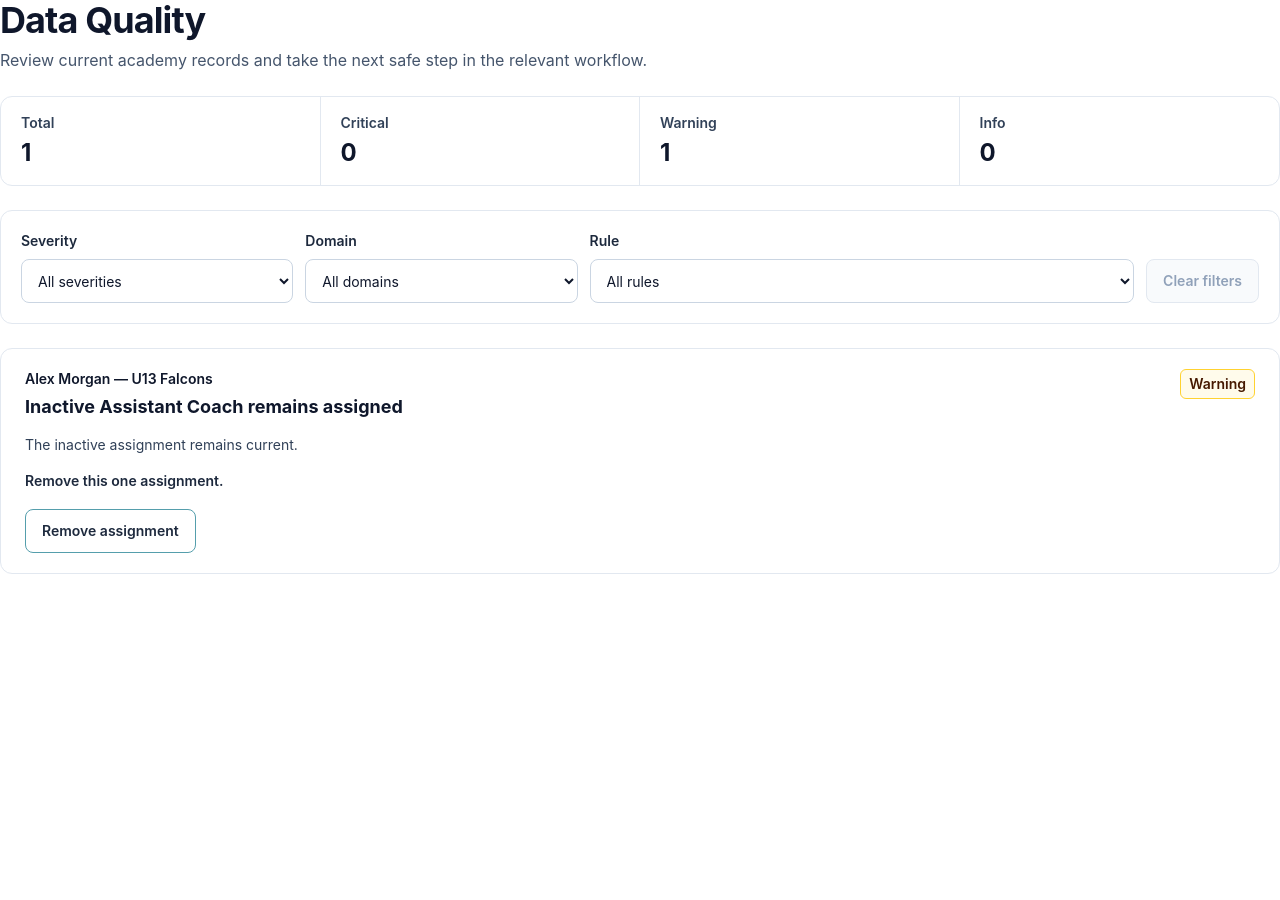
Test: Data Quality remediation › retains the finding and hides server details after a safe failure
Click the button "Remove assignment": (110, 531) [25,509,196,553]
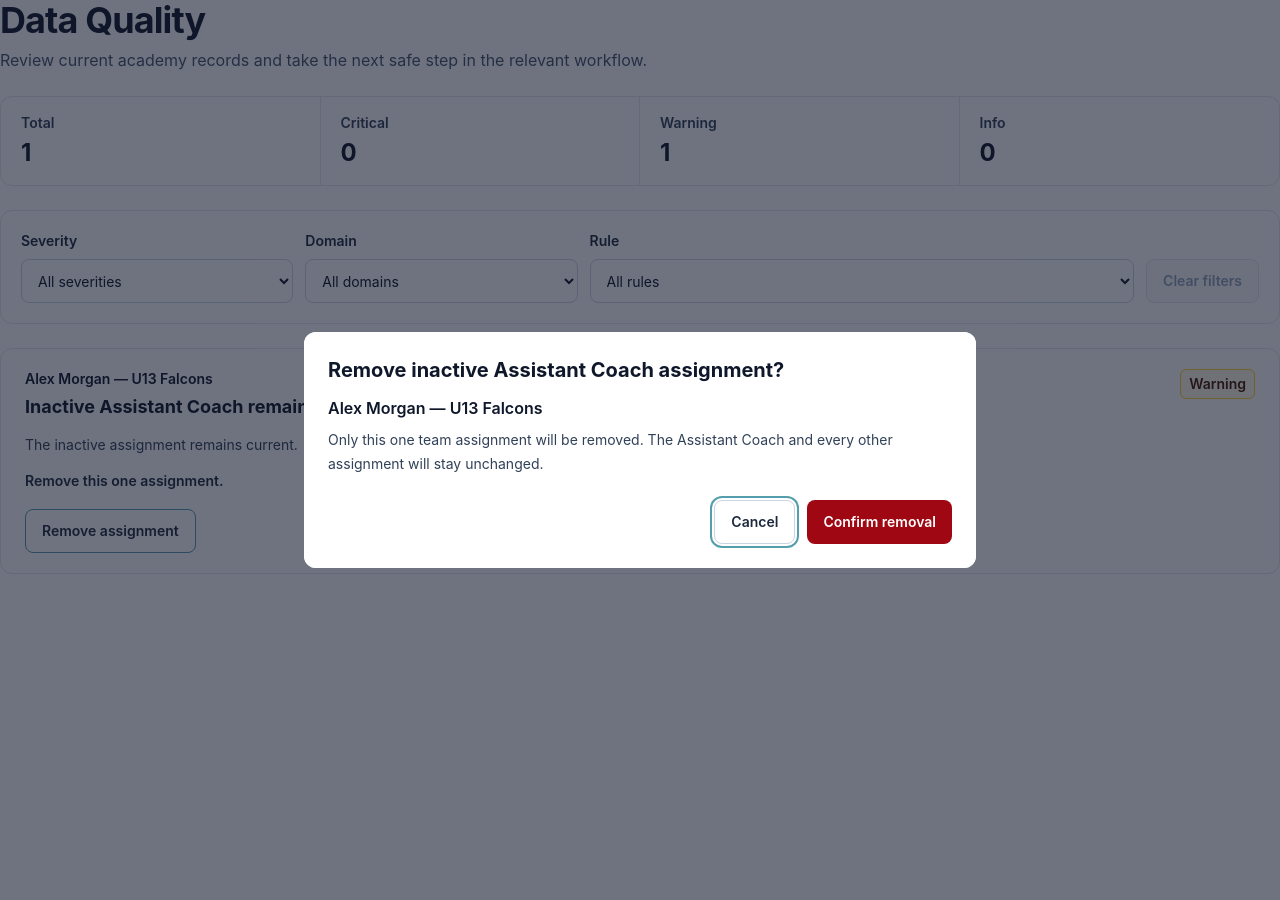
Click the button "Confirm removal": (880, 522) [807,500,952,544]
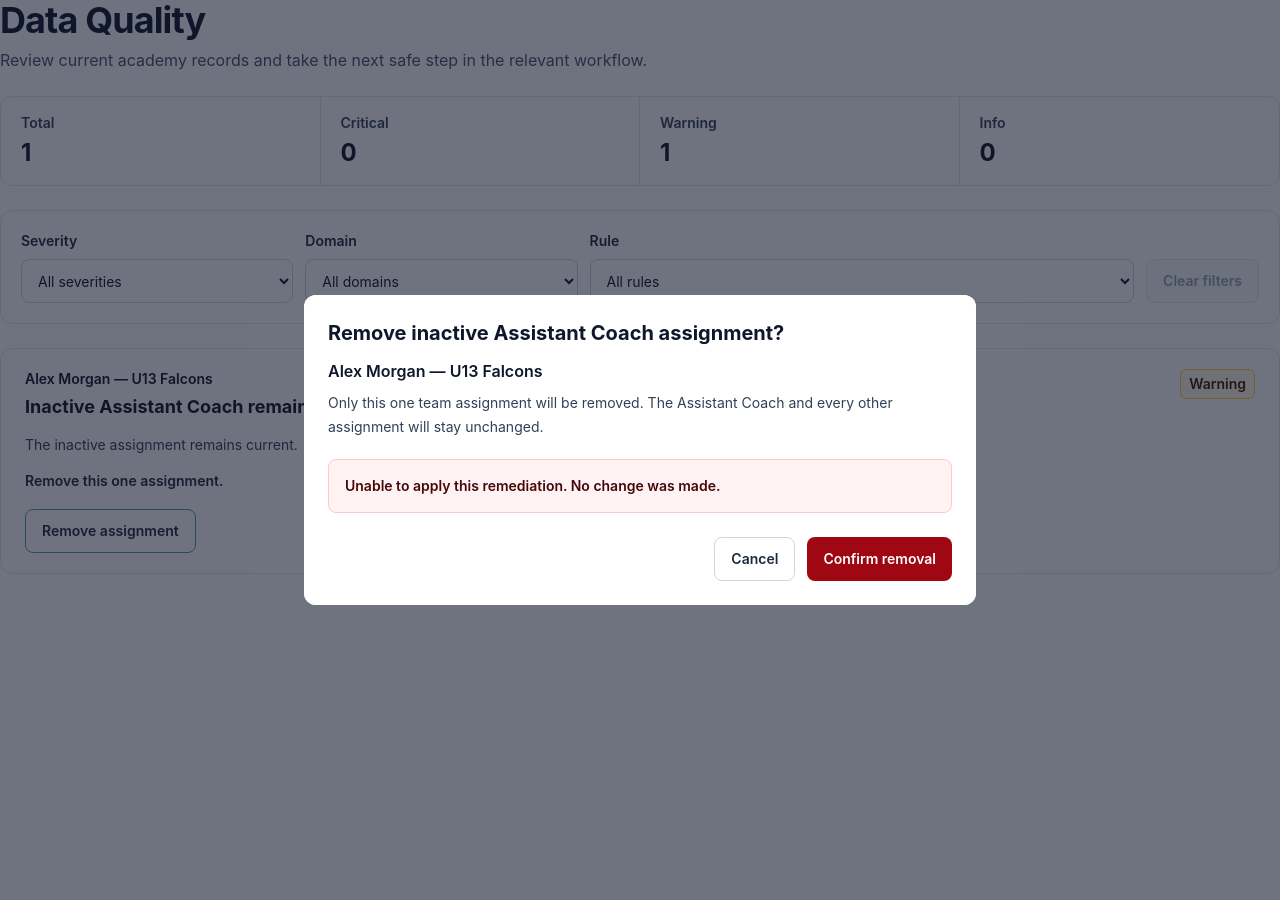
Expected: the heading "Inactive Assistant Coach remains assigned" is shown, [25,396,403,417]
Now the dialog is shown, box [304,295,976,605]
Now the message reads "Unable to apply this remediation. No change was made.", box [345,477,720,494]
